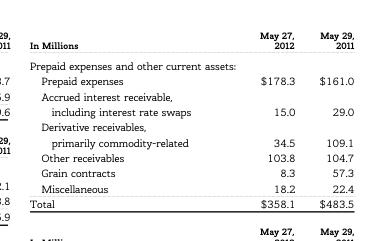table: (29, 28, 353, 210)
table column: (29, 28, 224, 210), (224, 28, 306, 210), (306, 28, 353, 210)
table column header: (29, 28, 353, 54)
table projected row header: (29, 54, 353, 73)
table row: (29, 88, 353, 119), (29, 119, 353, 149), (29, 28, 353, 54), (29, 54, 353, 73), (29, 149, 353, 165), (29, 73, 353, 88), (29, 165, 353, 180), (29, 180, 353, 195), (29, 195, 353, 210)
